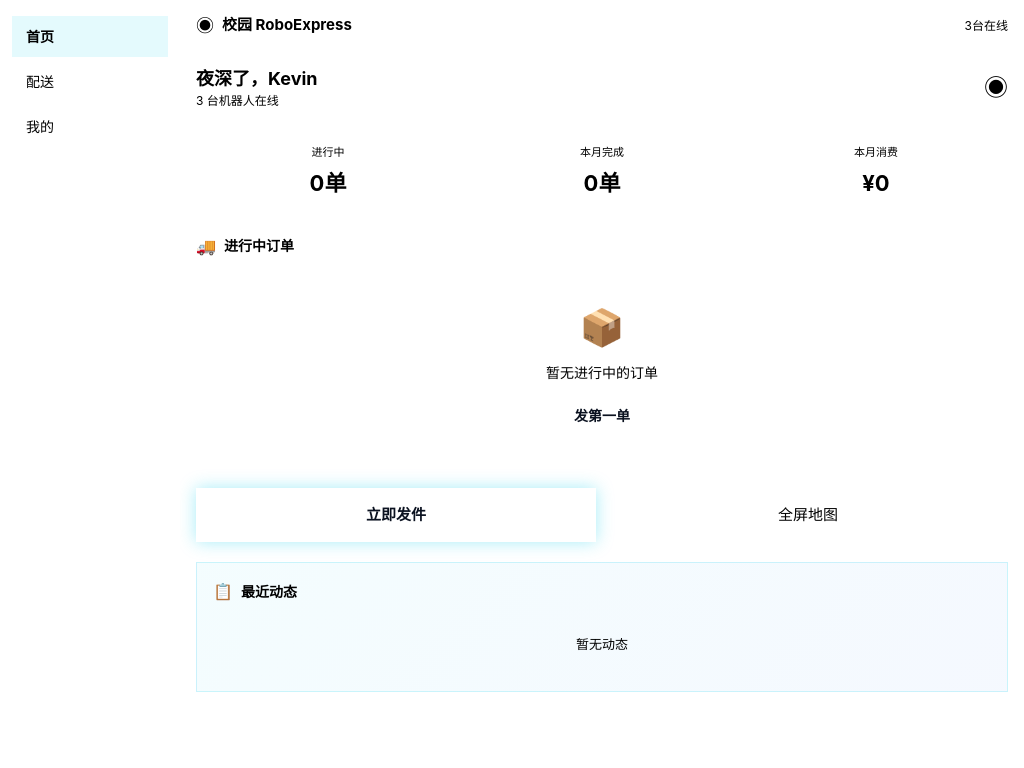
Test case: App integration › opens wizard from home page send button
This screenshot has width=1024, height=768.
Click the button with test id "home-send-btn".
click(396, 515)  # box [196,488,596,542]
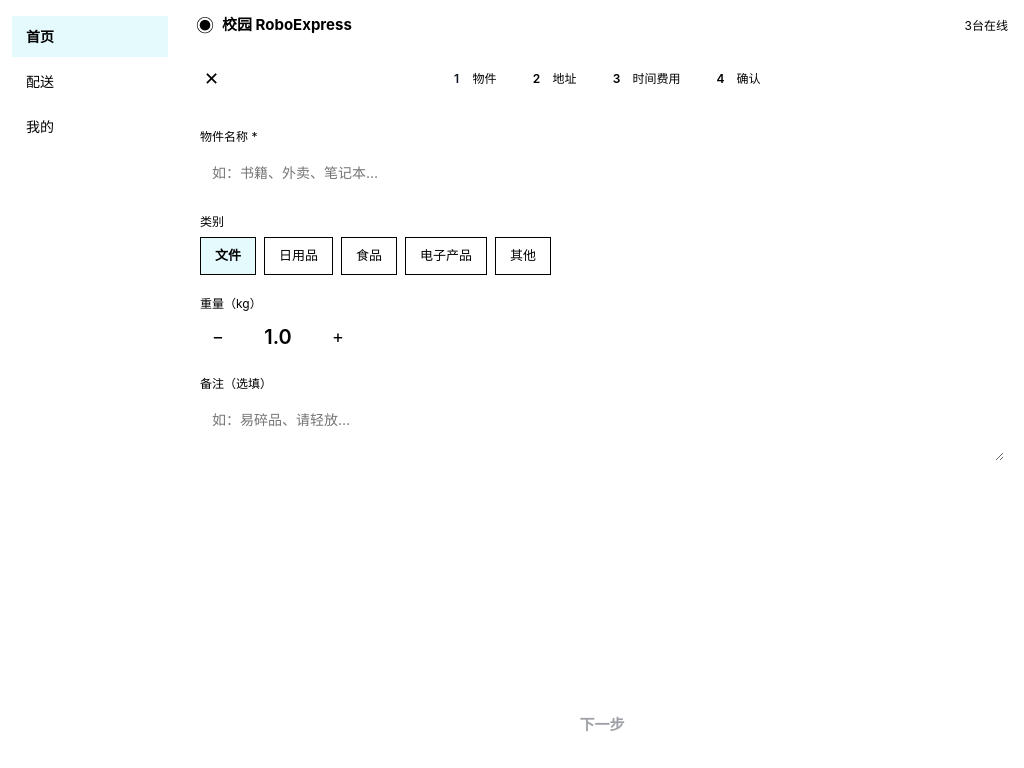
Expected: the element with test id "wizard-page" is shown
